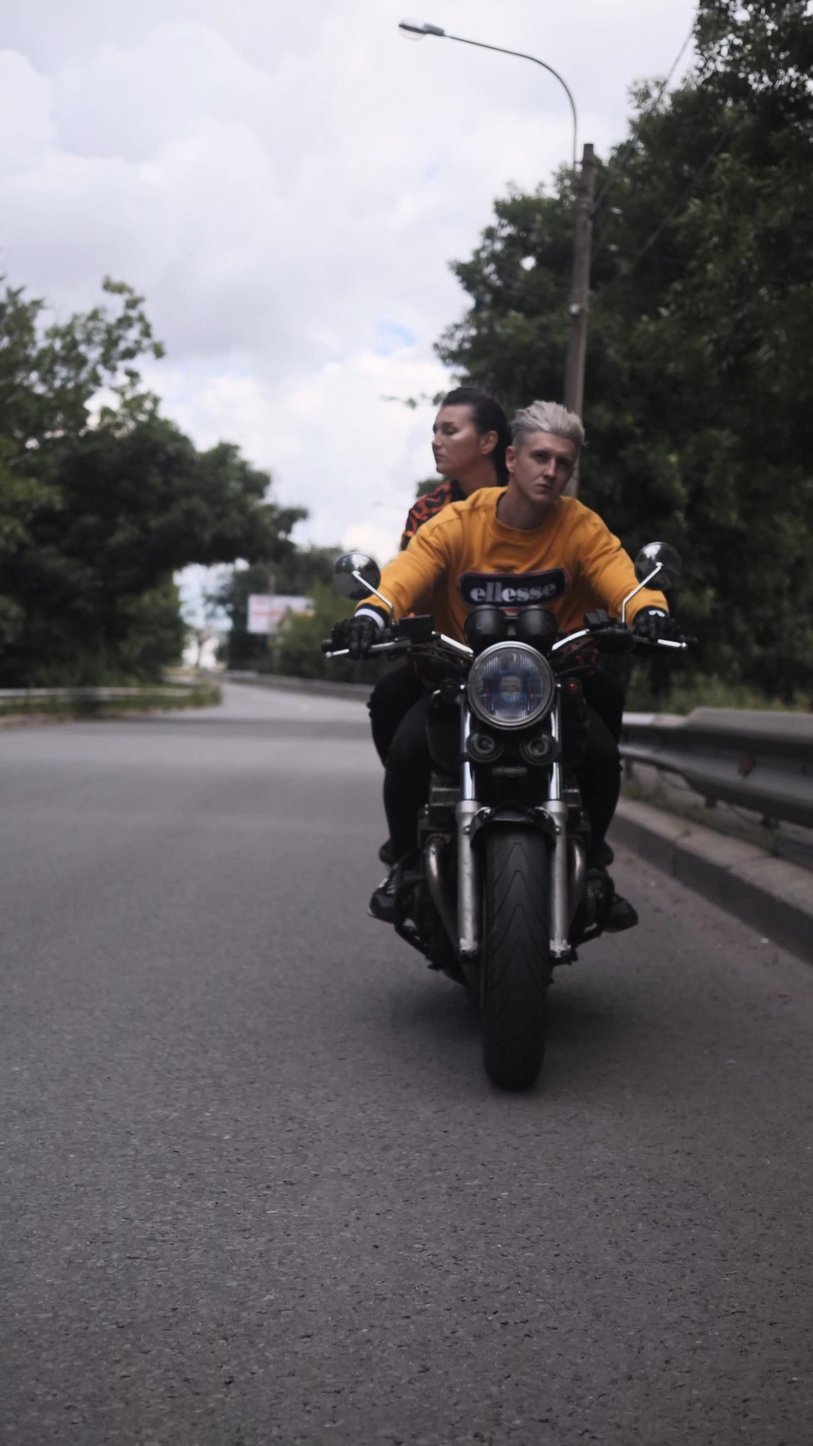driver: (318, 387, 699, 1088)
no-helmet: (505, 400, 586, 508), (431, 388, 511, 476)
